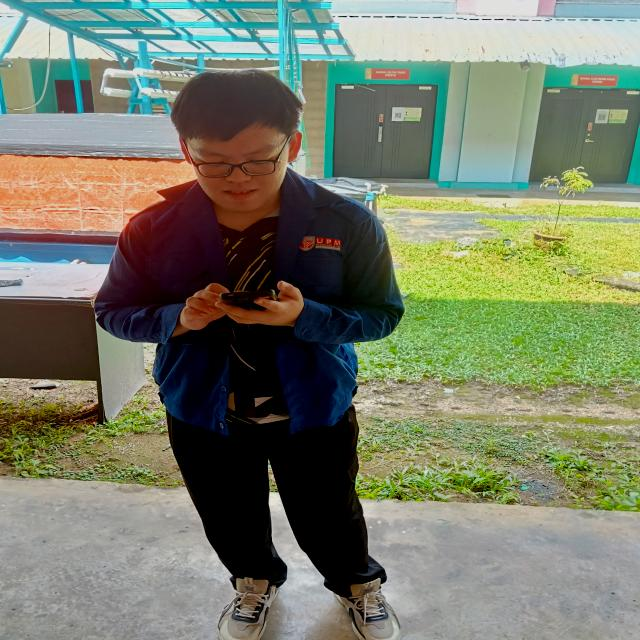person_with_labcoat: (95, 69, 404, 640)
